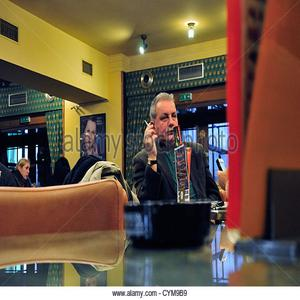cigarette: (143, 120, 155, 133)
